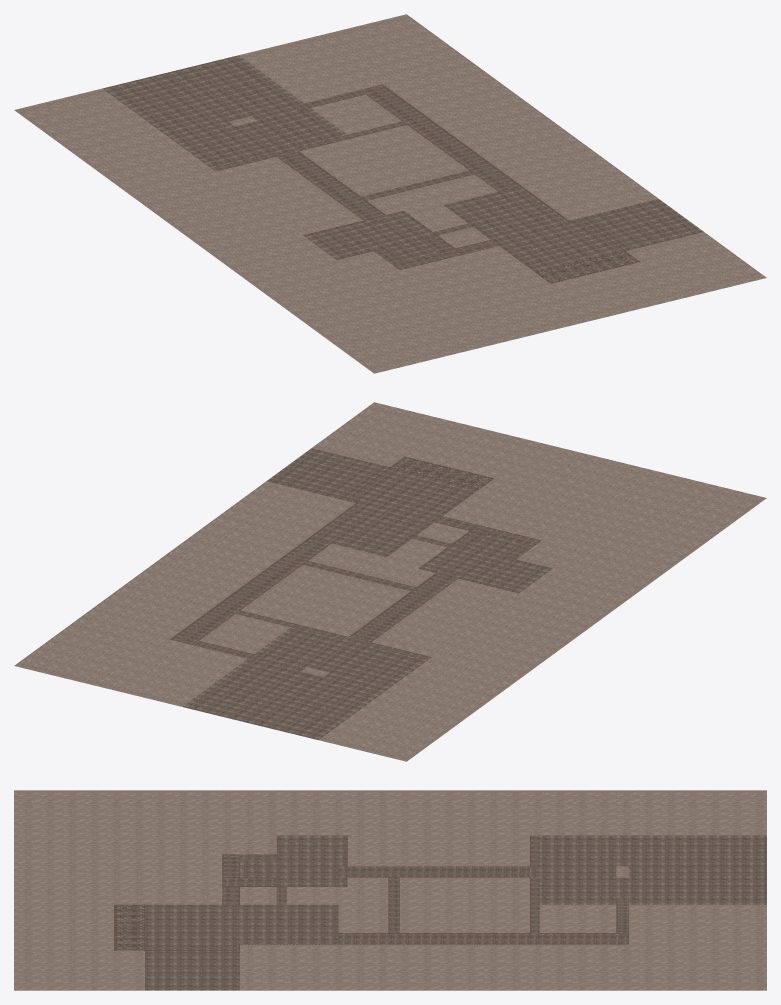
3 renders of one model, top to bottom at view 1: azimuth 30°, elevation 25°; view 2: azimuth 150°, elevation 25°; view 3: azimuth 270°, elevation 25°, orthographic. The views are drawn at different scales.
Parts seen in each view (by area): view 1: Plane02; view 2: Plane02; view 3: Plane02.
Boxes of the visible parts, x1,y1,x2,y2 form: Plane02: (14, 14, 766, 373); Plane02: (14, 402, 766, 761); Plane02: (14, 790, 766, 990).
Bounding box in the file's own units: 3708 × 0 × 5892.
